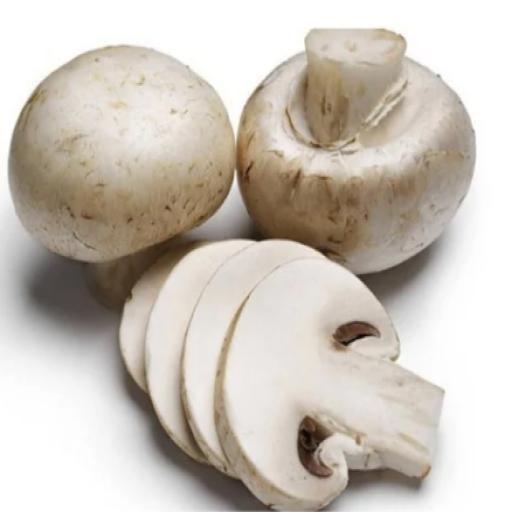Button Mushroom: (112, 234, 449, 512), (230, 21, 478, 276), (10, 39, 228, 295)
